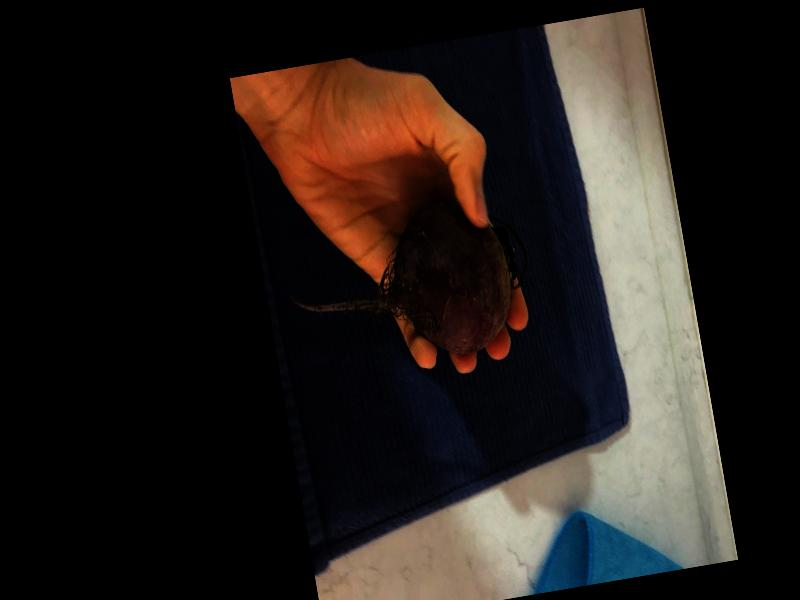Beet: (278, 189, 540, 381)
